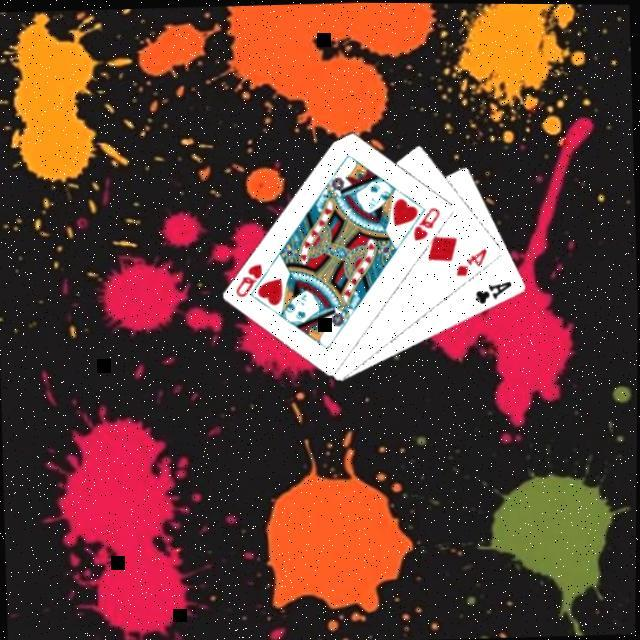4D: (450, 245, 489, 280)
AC: (470, 277, 514, 307)
QH: (229, 259, 274, 300), (408, 203, 441, 243)
